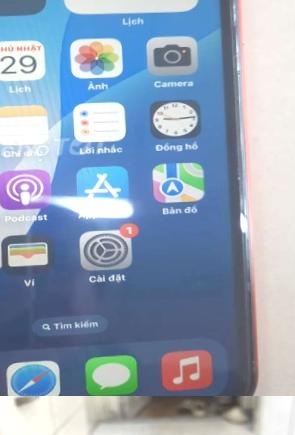scratch: (240, 348, 270, 378)
